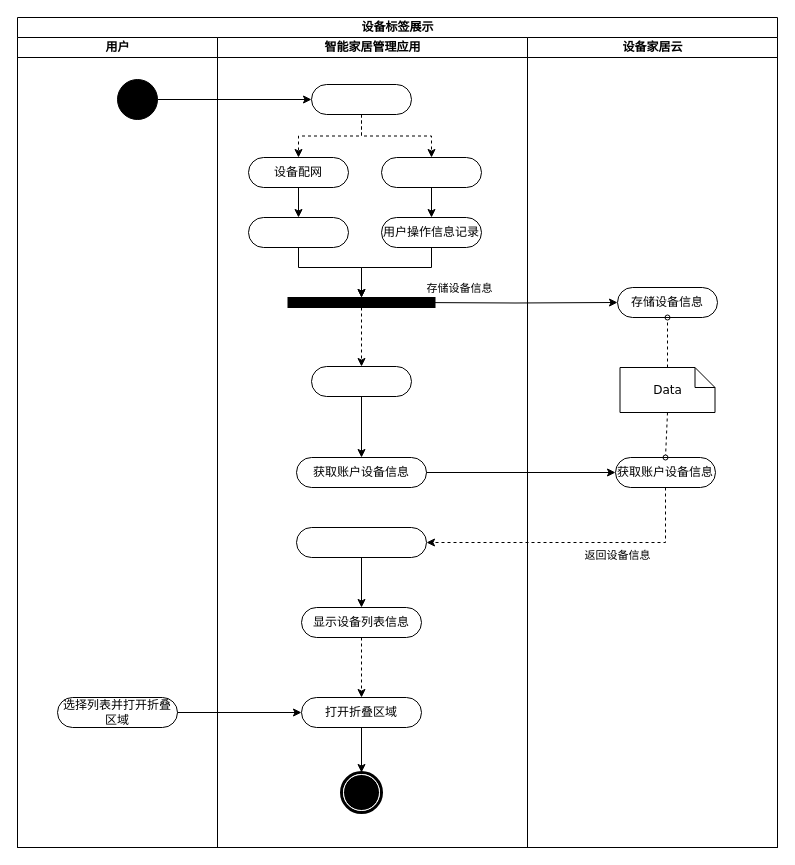
This 795x865 diagram has some shape labels left out. Each missing label, with the centre of its shape:
其他Action: point 361,381
处理账户设备信息: point 361,542
开始: point 137,99
结束: point 361,792
设备操作管理: point 431,172
设备设置: point 298,232
账户登录: point 361,99
